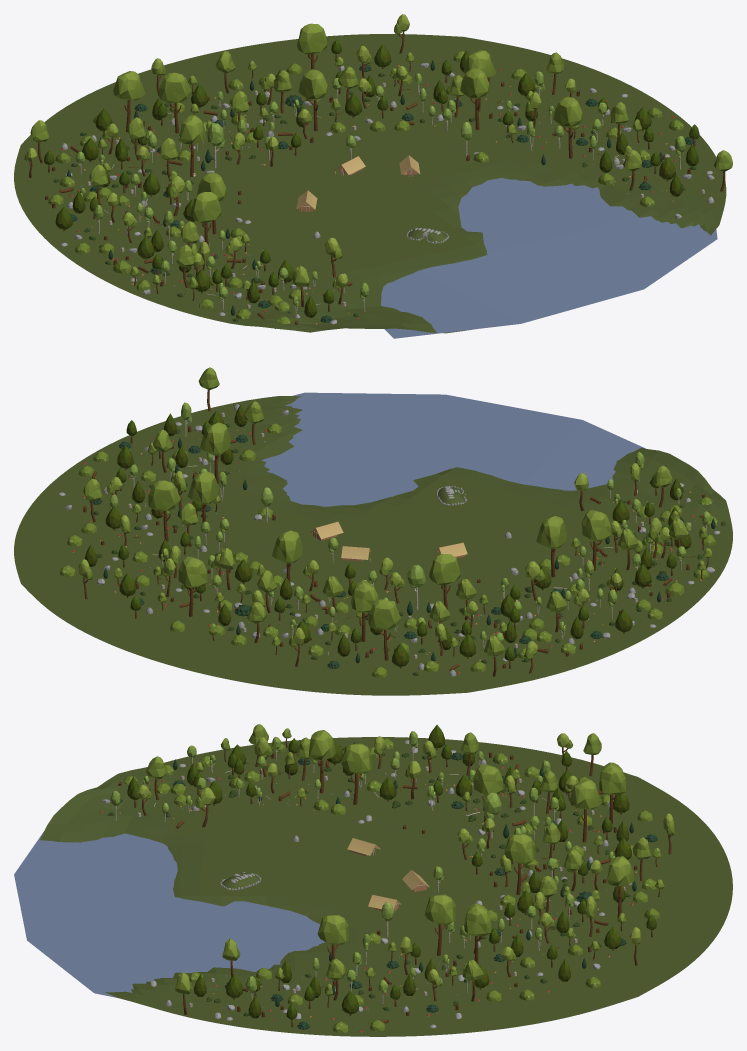
The picture shows the model from 3 angles, top to bottom: view 1: azimuth 30°, elevation 25°; view 2: azimuth 150°, elevation 25°; view 3: azimuth 270°, elevation 25°; orthographic projection.
Visible parts, largest first — view 1: Plane, Plane.001, Beechtree3.009, Beechtree3.007, Beechtree3.006, Beechtree3.008, Beechtree3, Beechtree3.004, Beechtree3.003, Beechtree3.001, Beechtree3.002, Beechtree3.005; view 2: Plane, Plane.001, Beechtree3.005, Beechtree3.008, Beechtree3.007, Beechtree3.003, Beechtree3.002, Beechtree3.001, Beechtree3.006, Beechtree3, Beechtree3.004, Beechtree3.009; view 3: Plane, Plane.001, Beechtree3.004, Beechtree3.002, Beechtree3, Beechtree3.009, Beechtree3.006, Beechtree3.005, Beechtree3.008, Beechtree3.007, Beechtree3.003, Beechtree3.001.
Part boxes in pixels (left/top/right/bottom): Plane: left=14, top=34, right=726, bottom=333; Plane.001: left=381, top=178, right=717, bottom=338; Beechtree3.009: left=159, top=72, right=191, bottom=133; Beechtree3.007: left=190, top=192, right=221, bottom=246; Beechtree3.006: left=553, top=96, right=583, bottom=158; Beechtree3.008: left=113, top=71, right=145, bottom=132; Beechtree3: left=298, top=69, right=328, bottom=131; Beechtree3.004: left=460, top=68, right=489, bottom=129; Beechtree3.003: left=297, top=23, right=327, bottom=69; Beechtree3.001: left=179, top=115, right=206, bottom=176; Beechtree3.002: left=197, top=172, right=226, bottom=234; Beechtree3.005: left=463, top=50, right=496, bottom=111; Plane: left=14, top=396, right=732, bottom=695; Plane.001: left=262, top=392, right=645, bottom=506; Beechtree3.005: left=148, top=480, right=180, bottom=541; Beechtree3.008: left=368, top=599, right=400, bottom=660; Beechtree3.007: left=581, top=510, right=612, bottom=570; Beechtree3.003: left=178, top=556, right=209, bottom=616; Beechtree3.002: left=536, top=516, right=567, bottom=577; Beechtree3.001: left=429, top=554, right=460, bottom=609; Beechtree3.006: left=200, top=422, right=230, bottom=483; Beechtree3: left=272, top=530, right=302, bottom=584; Beechtree3.004: left=187, top=471, right=218, bottom=522; Beechtree3.009: left=351, top=580, right=378, bottom=641; Plane: left=40, top=737, right=732, bottom=1036; Plane.001: left=14, top=832, right=325, bottom=997; Beechtree3.004: left=424, top=894, right=456, bottom=955; Beechtree3.002: left=341, top=743, right=372, bottom=804; Beechtree3: left=504, top=834, right=535, bottom=894; Beechtree3.009: left=569, top=779, right=602, bottom=842; Beechtree3.006: left=317, top=915, right=349, bottom=960; Beechtree3.005: left=464, top=903, right=491, bottom=964; Beechtree3.008: left=598, top=762, right=626, bottom=824; Beechtree3.007: left=308, top=730, right=335, bottom=793; Beechtree3.003: left=606, top=856, right=634, bottom=917; Beechtree3.001: left=472, top=764, right=504, bottom=821.
Size of the model in its own units: 306 by 36.84 by 310.
Materials: 40 (38 with a texture image).
